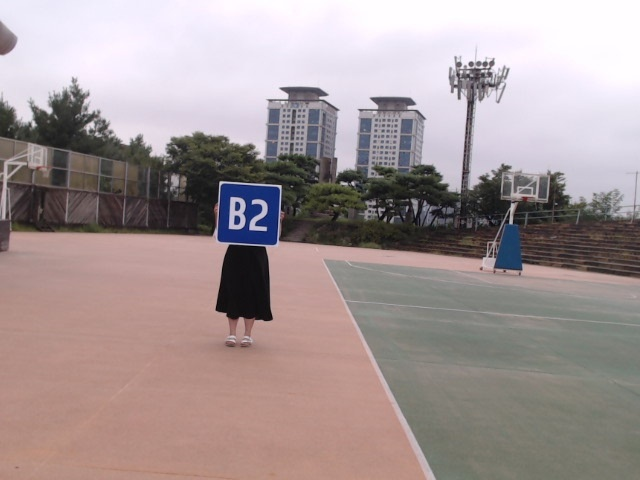delivery_b2: (216, 183, 281, 246)
